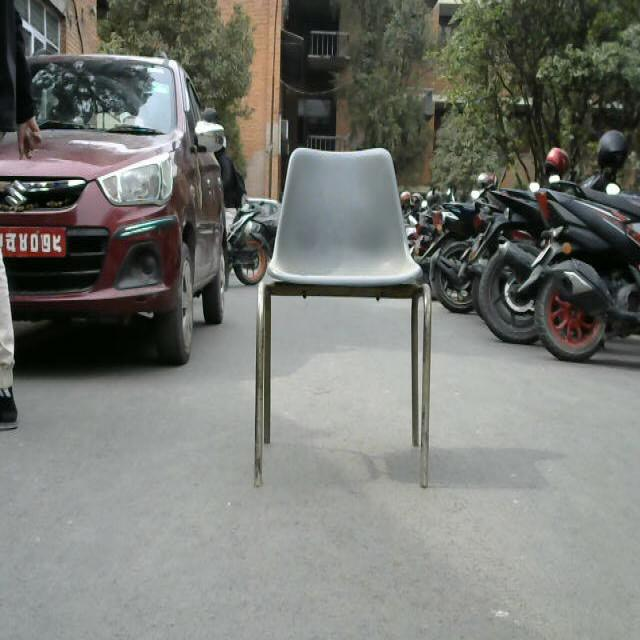Bike: (537, 183, 640, 366), (481, 180, 541, 331), (424, 191, 489, 306)
Car: (29, 55, 229, 379)
small-obstacles: (248, 143, 424, 499)
trees: (45, 366, 640, 640), (455, 0, 617, 159), (346, 0, 445, 150), (121, 0, 276, 80)
